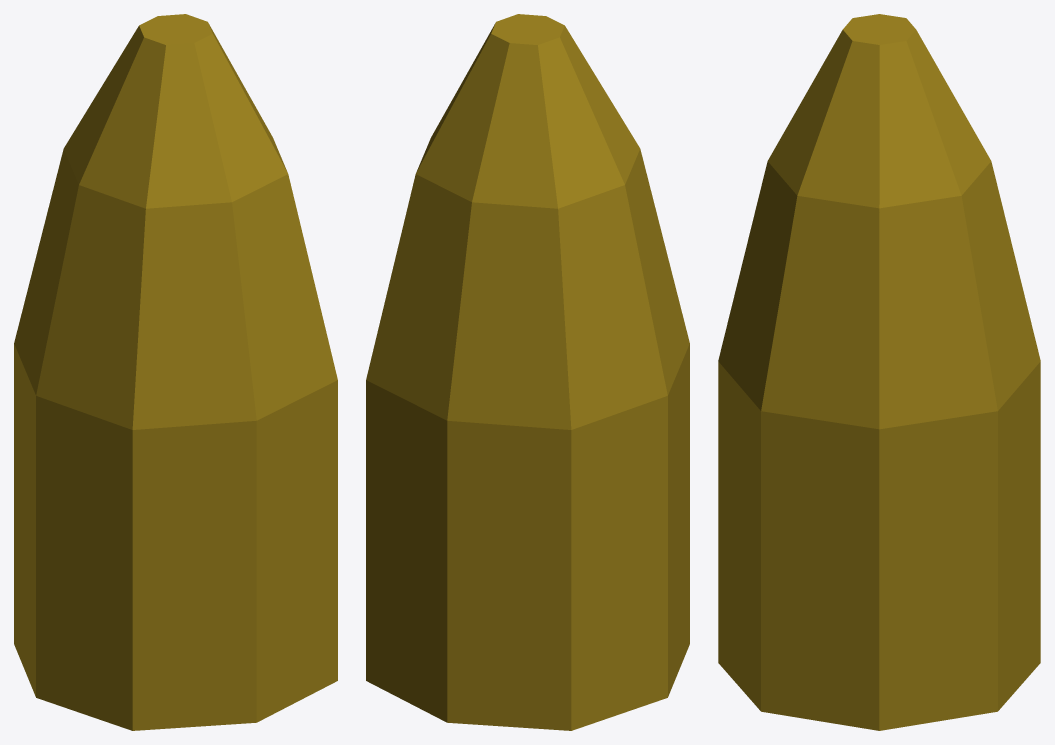
Rendered from Bullet Model.fbx.
The picture shows the model from 3 angles, left to right: view 1: azimuth 30°, elevation 25°; view 2: azimuth 150°, elevation 25°; view 3: azimuth 270°, elevation 25°; orthographic projection.
Visible parts, largest first — view 1: Cube; view 2: Cube; view 3: Cube.
Boxes of the visible parts, left/top/right/bottom form: Cube: left=14, top=14, right=337, bottom=730; Cube: left=366, top=14, right=689, bottom=730; Cube: left=718, top=14, right=1040, bottom=730.
Bounding box in the file's own units: 216 × 467 × 216.
